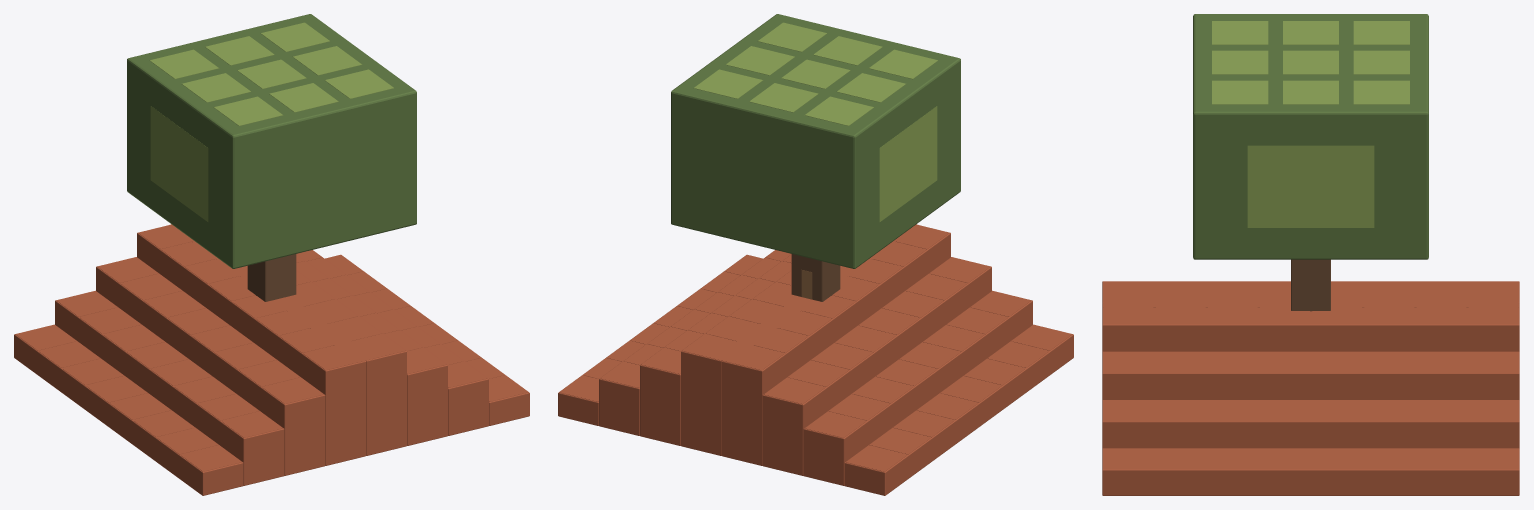
Rendered from village-props-lod0.glb.
3 renders of one model, left to right at view 1: azimuth 30°, elevation 25°; view 2: azimuth 150°, elevation 25°; view 3: azimuth 270°, elevation 25°, orthographic. The views are drawn at different scales.
Parts seen in each view (by area): view 1: 00_roof, 02_tree; view 2: 00_roof, 02_tree; view 3: 00_roof, 02_tree.
Boxes of the visible parts, x1,y1,x2,y2 form: 00_roof: (14, 224, 529, 495); 02_tree: (127, 14, 416, 301); 00_roof: (558, 224, 1073, 495); 02_tree: (671, 14, 960, 301); 00_roof: (1102, 281, 1519, 495); 02_tree: (1193, 14, 1428, 311).
Size of the model in its own units: 4.6 by 4.2 by 4.6.
